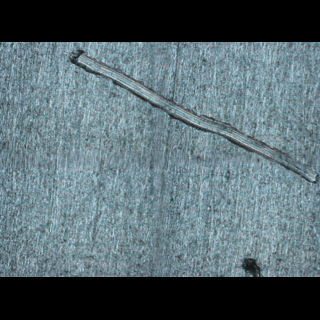d: (66, 49, 319, 186)
